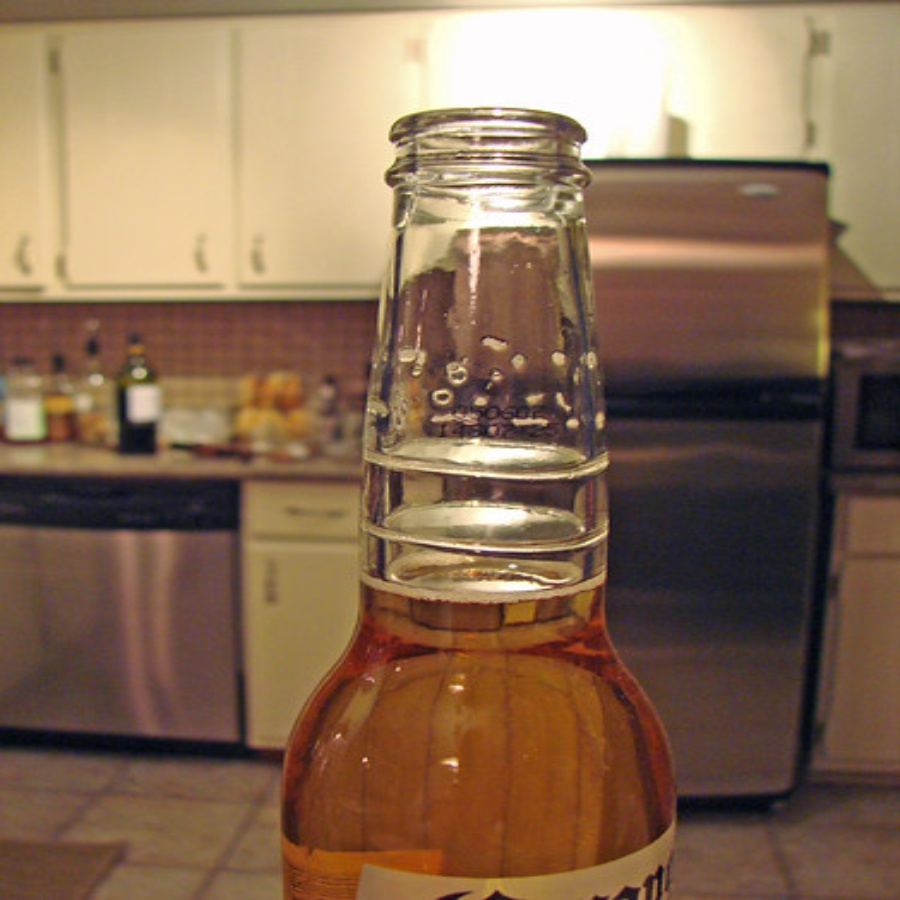beer: (268, 109, 690, 900)
